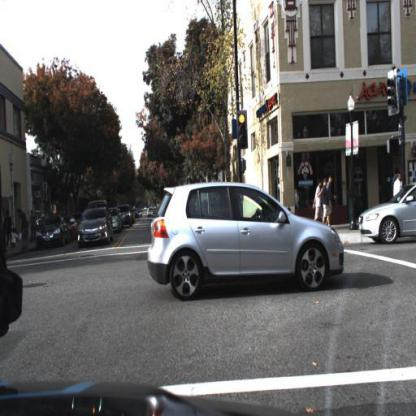car: (147, 182, 346, 306), (357, 183, 416, 250), (78, 208, 113, 247), (38, 215, 70, 249), (172, 205, 193, 230), (112, 208, 125, 235), (124, 204, 136, 231)
pedestrian: (406, 167, 416, 235), (322, 175, 334, 229), (19, 204, 31, 251), (19, 202, 29, 256), (391, 168, 403, 208), (315, 179, 323, 229), (32, 210, 40, 249), (6, 208, 13, 250), (12, 227, 19, 249)
trafficLight: (238, 112, 248, 152)
